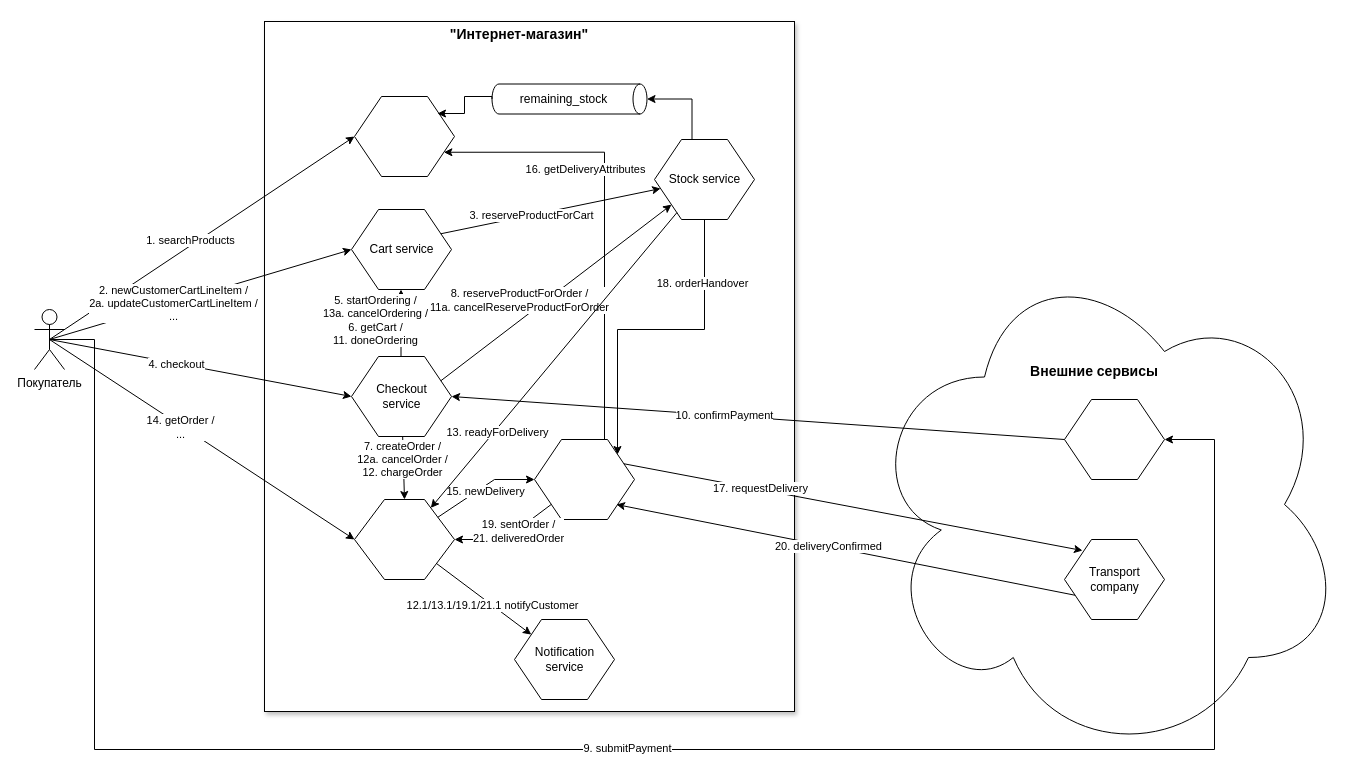
Image size: 1362x777. Some labels were removed from this diagram. Each missing label, with the centre of its shape:
"Delivery service" belongs at point (584, 479).
"Order service" belongs at point (404, 539).
"Payment system" belongs at point (1114, 439).
"Product service" belongs at point (404, 136).
